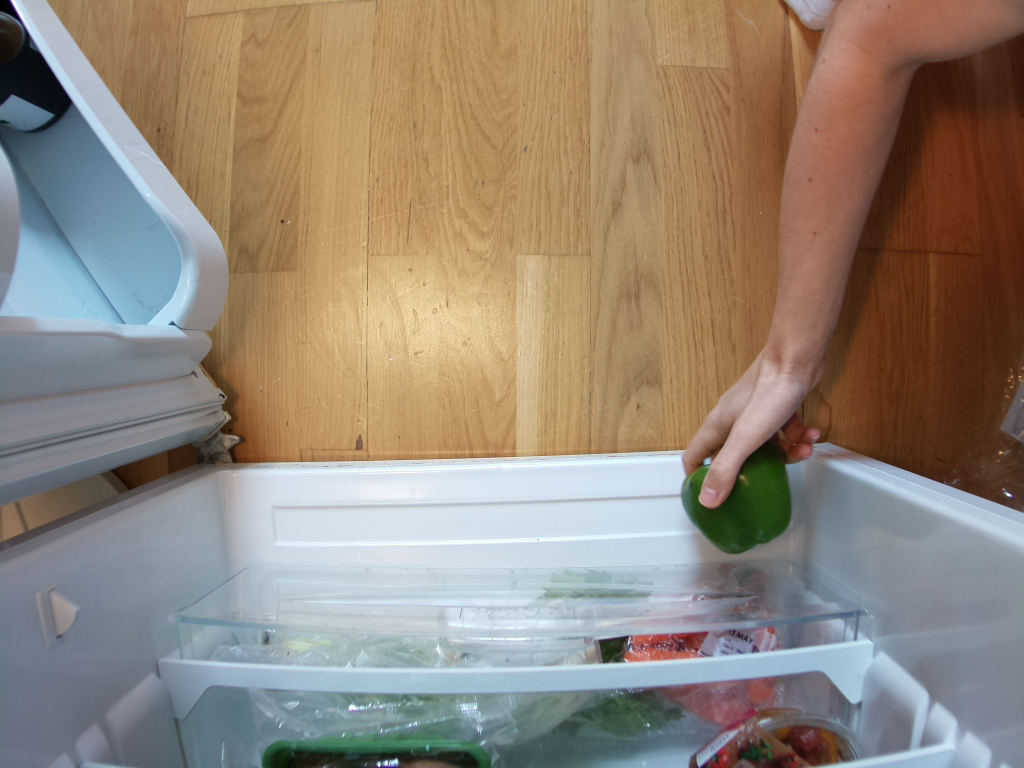pepper: (680, 446, 794, 553)
